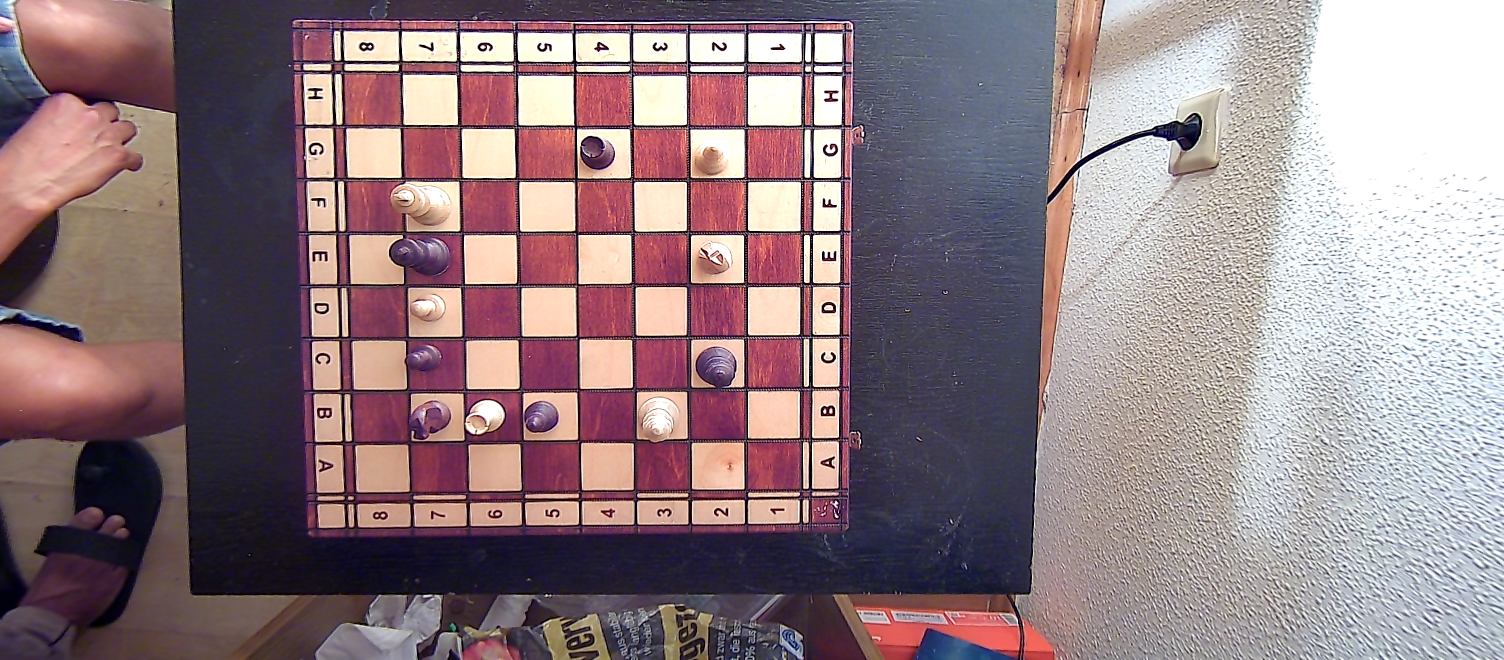black-bishop: (520, 395, 563, 435)
black-king: (387, 235, 453, 277)
black-knight: (407, 400, 454, 441)
black-pawn: (404, 338, 445, 377)
black-queen: (694, 344, 739, 391)
black-rook: (578, 131, 616, 172)
white-bishop: (693, 139, 732, 178)
white-king: (388, 180, 454, 229)
white-knight: (694, 238, 737, 276)
white-pawn: (407, 290, 448, 324)
white-queen: (638, 393, 683, 443)
white-rook: (462, 397, 505, 438)
